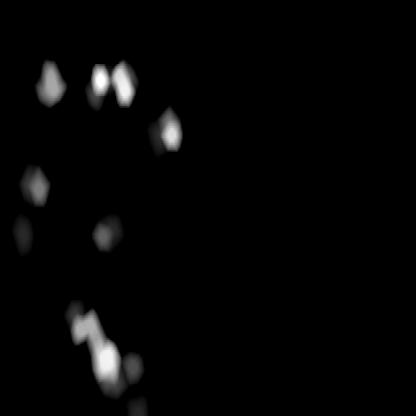fingers: (68, 300, 119, 384)
palm: (38, 59, 181, 150)
